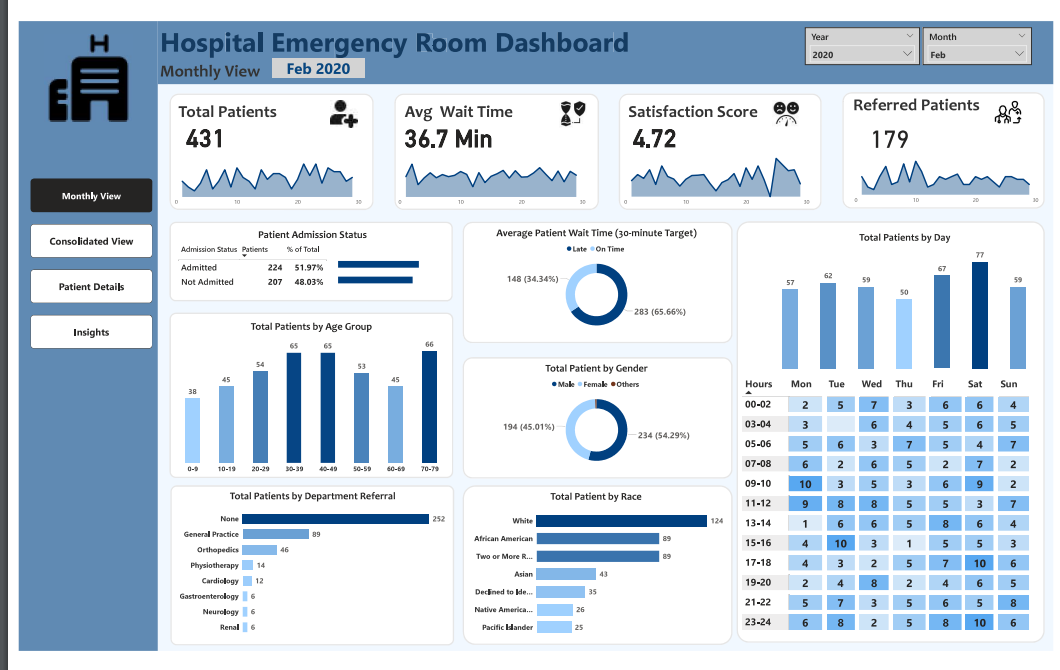

The page's visual inventory and layout, read from the dashboard file:
{"tool":"powerbi","page":{"name":"Monthly View","canvas":[2300,1400],"ordinal":0},"visuals":[{"type":"textbox","box":[309.3,0,1080.1,96.1],"z":0},{"type":"shape","box":[1596,445.2,685,936.9],"z":0,"group":"g12"},{"type":"shape","box":[335.2,648,630.7,368.1],"z":0,"group":"g6"},{"type":"shape","box":[337,1031.6,630.7,356],"z":0,"group":"g7"},{"type":"shape","box":[0,0,309.3,1399.9],"z":1000},{"type":"clusteredColumnChart","fields":{"Category":["Hospital ER.Age Group"],"Y":["Hospital ER.Total Patients"]},"box":[335.2,663.6,630.7,352.5],"z":1000,"group":"g6"},{"type":"pivotTable","fields":{"Rows":["Hospital ER.Waittime Interval"],"Values":["Hospital ER.Total Patients"],"Columns":["Date Table.Day"]},"box":[1604.7,784.8,665.7,583.2],"z":1000,"group":"g12"},{"type":"clusteredBarChart","title":"Total Patients by Department Referral","fields":{"Category":["Hospital ER.department_referral"],"Y":["Hospital ER.Total Patients"]},"box":[350.8,1040.2,604.8,337],"z":1000,"group":"g7"},{"type":"shape","box":[309.3,0,1990.7,140],"z":2000},{"type":"textbox","box":[309.3,82.1,253.4,57.7],"z":3000},{"type":"shape","box":[335.2,445.8,630,177],"z":3000,"group":"g5"},{"type":"shape","box":[986.7,445.8,600,270],"z":3000,"group":"g8"},{"type":"shape","box":[986.7,746.5,600,270],"z":3000,"group":"g9"},{"type":"shape","box":[987.2,1032.3,600,355],"z":3000,"group":"g11"},{"type":"slicer","fields":{"Values":["Date Table.Year"]},"box":[1747.9,13.8,255.4,82.8],"z":4000},{"type":"shape","box":[1830.7,158.2,449.7,259.2],"z":4000,"group":"g13"},{"type":"shape","box":[335.2,160.7,454.1,259.2],"z":4000,"group":"g1"},{"type":"shape","box":[834.1,160.7,455.5,259.2],"z":4000,"group":"g2"},{"type":"shape","box":[1334.5,160.7,451.4,259.2],"z":4000,"group":"g3"},{"type":"slicer","fields":{"Values":["Date Table.Month"]},"box":[2010.1,13.8,241.6,82.8],"z":5000},{"type":"card","fields":{"Values":["Hospital ER.Total Patients"]},"box":[335.2,216,160.4,74.3],"z":5000,"group":"g1"},{"type":"card","fields":{"Values":["Hospital ER.Satisgaction Score"]},"box":[1334.5,216,159.4,74.3],"z":5000,"group":"g3"},{"type":"card","fields":{"Values":["Hospital ER.Avg Wait time"]},"box":[849.9,216.5,210.8,74.3],"z":5000,"group":"g2"},{"type":"card","fields":{"Values":["Hospital ER.Referred Patient"]},"box":[1856.7,218.2,158.3,74.3],"z":5000,"group":"g13"},{"type":"card","fields":{"Values":["Min(Date Table.Month & Year)"]},"box":[563.3,82.9,205.6,43.2],"z":6000},{"type":"group","id":"g1","title":"Group 1","box":[335.2,160.7,1964.8,259.3],"z":7000},{"type":"textbox","box":[1841.4,157,336.5,75.9],"z":8000,"group":"g13"},{"type":"group","id":"g2","title":"Group 1","box":[831.6,160.7,458.1,259.2],"z":8000},{"type":"textbox","box":[350.3,171.6,252.3,58.8],"z":8000,"group":"g1"},{"type":"textbox","box":[853.1,171.6,423.4,58.8],"z":8000,"group":"g2"},{"type":"textbox","box":[1342.3,171.6,314,58.7],"z":8000,"group":"g3"},{"type":"group","id":"g3","title":"Group 1","box":[1334.5,160.7,451.4,259.2],"z":9000},{"type":"areaChart","fields":{"Category":["Date Table.Date.Variation.Date Hierarchy.Day"],"Y":["Hospital ER.Referred Patient"]},"box":[1845.8,286.1,428.5,129.6],"z":9000,"group":"g13"},{"type":"areaChart","fields":{"Category":["Date Table.Date.Variation.Date Hierarchy.Day"],"Y":["Hospital ER.Total Patients"]},"box":[335.2,290.3,434.6,129.6],"z":9000,"group":"g1"},{"type":"areaChart","fields":{"Category":["Date Table.Date.Variation.Date Hierarchy.Day"],"Y":["Avg(Hospital ER.patient_waittime)"]},"box":[831.6,290.3,436,129.6],"z":9000,"group":"g2"},{"type":"areaChart","fields":{"Category":["Date Table.Date.Variation.Date Hierarchy.Day"],"Y":["Hospital ER.Satisgaction Score"]},"box":[1334.5,290.3,432,129.6],"z":9000,"group":"g3"},{"type":"group","id":"g4","title":"Group 1","box":[1830.7,157,449.7,260.4],"z":10000},{"type":"group","id":"g5","title":"Group 2","box":[335.2,445.8,630.7,176.3],"z":11000},{"type":"pivotTable","title":"Patient Admission Status","fields":{"Rows":["Hospital ER.Admission Status"],"Values":["Hospital ER.Total Patients1","Hospital ER.Total Patients"]},"box":[350.8,459.6,604.8,148.6],"z":12000,"group":"g5"},{"type":"group","id":"g6","title":"Group 3","box":[335.2,648,630.7,368.1],"z":12000},{"type":"barChart","fields":{"Category":["Hospital ER.Admission Status"],"Y":["Hospital ER.Total Patients"]},"box":[705,502.8,250.6,105.4],"z":13000,"group":"g5"},{"type":"group","id":"g7","title":"Group 4","box":[337,1031.6,630.7,356],"z":13000},{"type":"group","id":"g8","title":"Group 5","box":[986.7,445.8,599.6,269.6],"z":14000},{"type":"donutChart","title":"Average Patient Wait Time (30-minute Target)","fields":{"Y":["Hospital ER.Total Patients"],"Category":["Hospital ER.Wait Time  Status"]},"box":[995.3,456.2,577.2,243.7],"z":14008,"group":"g8"},{"type":"donutChart","title":"Total Patient by Gender","fields":{"Y":["Hospital ER.Total Patients"],"Category":["Hospital ER.patient_gender"]},"box":[995.3,756.9,577.2,243.7],"z":14008,"group":"g9"},{"type":"clusteredBarChart","title":"Total Patient by Race","fields":{"Category":["Hospital ER.patient_race"],"Y":["Hospital ER.Total Patients"]},"box":[995.5,1042.2,577.2,340.4],"z":14008,"group":"g11"},{"type":"group","id":"g9","title":"Group 6","box":[986.7,746.5,600,270],"z":14011,"group":"g10"},{"type":"group","id":"g10","title":"Group 5","box":[986.7,746.5,600,270],"z":15000},{"type":"group","id":"g11","title":"Group 5","box":[987.2,1032.3,600,355],"z":16000},{"type":"group","id":"g12","title":"Group 3","box":[1596,445.2,685,936.9],"z":17000},{"type":"columnChart","fields":{"Category":["Date Table.Day"],"Y":["Hospital ER.Total Patients"]},"box":[1692.6,465.9,553.9,312.3],"z":18000},{"type":"image","box":[789,161,1511,259],"z":18003,"group":"g1"},{"type":"image","box":[12.1,24.2,284.7,203.6],"z":19000},{"type":"image","box":[666,170.8,113.9,69],"z":20000},{"type":"image","box":[1175,170.8,112.2,69],"z":21000},{"type":"image","box":[1649.5,170.8,112.2,69],"z":22000},{"type":"group","id":"g13","title":"Group 7","box":[1830.7,157,449.7,260.4],"z":22001,"group":"g4"},{"type":"pageNavigator","box":[25.9,350.3,270.9,379.6],"z":23000},{"type":"image","box":[2144.7,170.8,112,69],"z":24000}]}

Visuals, with their boxes on the page's 2300x1400 design canvas (x1, y1, x2, y2). These are canvas units, not pixel positions in the 1060x670 screenshot, which may show the page scaled, cropped or inside an application window:
textbox: (309,0,1389,96)
shape: (1596,445,2281,1382)
shape: (335,648,966,1016)
shape: (337,1032,968,1388)
shape: (0,0,309,1400)
clusteredColumnChart - Hospital ER.Age Group x Hospital ER.Total Patients: (335,664,966,1016)
pivotTable - Hospital ER.Waittime Interval x Hospital ER.Total Patients: (1605,785,2270,1368)
"Total Patients by Department Referral" clusteredBarChart: (351,1040,956,1377)
shape: (309,0,2300,140)
textbox: (309,82,563,140)
shape: (335,446,965,623)
shape: (987,446,1587,716)
shape: (987,746,1587,1016)
shape: (987,1032,1587,1387)
slicer - Date Table.Year: (1748,14,2003,97)
shape: (1831,158,2280,417)
shape: (335,161,789,420)
shape: (834,161,1290,420)
shape: (1334,161,1786,420)
slicer - Date Table.Month: (2010,14,2252,97)
card - Hospital ER.Total Patients: (335,216,496,290)
card - Hospital ER.Satisgaction Score: (1334,216,1494,290)
card - Hospital ER.Avg Wait time: (850,216,1061,291)
card - Hospital ER.Referred Patient: (1857,218,2015,292)
card - Min(Date Table.Month & Year): (563,83,769,126)
"Group 1" group: (335,161,2300,420)
textbox: (1841,157,2178,233)
"Group 1" group: (832,161,1290,420)
textbox: (350,172,603,230)
textbox: (853,172,1276,230)
textbox: (1342,172,1656,230)
"Group 1" group: (1334,161,1786,420)
areaChart - Date Table.Date.Variation.Date Hierarchy.Day x Hospital ER.Referred Patient: (1846,286,2274,416)
areaChart - Date Table.Date.Variation.Date Hierarchy.Day x Hospital ER.Total Patients: (335,290,770,420)
areaChart - Date Table.Date.Variation.Date Hierarchy.Day x Avg(Hospital ER.patient_waittime): (832,290,1268,420)
areaChart - Date Table.Date.Variation.Date Hierarchy.Day x Hospital ER.Satisgaction Score: (1334,290,1766,420)
"Group 1" group: (1831,157,2280,417)
"Group 2" group: (335,446,966,622)
"Patient Admission Status" pivotTable: (351,460,956,608)
"Group 3" group: (335,648,966,1016)
barChart - Hospital ER.Admission Status x Hospital ER.Total Patients: (705,503,956,608)
"Group 4" group: (337,1032,968,1388)
"Group 5" group: (987,446,1586,715)
"Average Patient Wait Time (30-minute Target)" donutChart: (995,456,1572,700)
"Total Patient by Gender" donutChart: (995,757,1572,1001)
"Total Patient by Race" clusteredBarChart: (996,1042,1573,1383)
"Group 6" group: (987,746,1587,1016)
"Group 5" group: (987,746,1587,1016)
"Group 5" group: (987,1032,1587,1387)
"Group 3" group: (1596,445,2281,1382)
columnChart - Date Table.Day x Hospital ER.Total Patients: (1693,466,2246,778)
image: (789,161,2300,420)
image: (12,24,297,228)
image: (666,171,780,240)
image: (1175,171,1287,240)
image: (1650,171,1762,240)
"Group 7" group: (1831,157,2280,417)
pageNavigator: (26,350,297,730)
image: (2145,171,2257,240)
